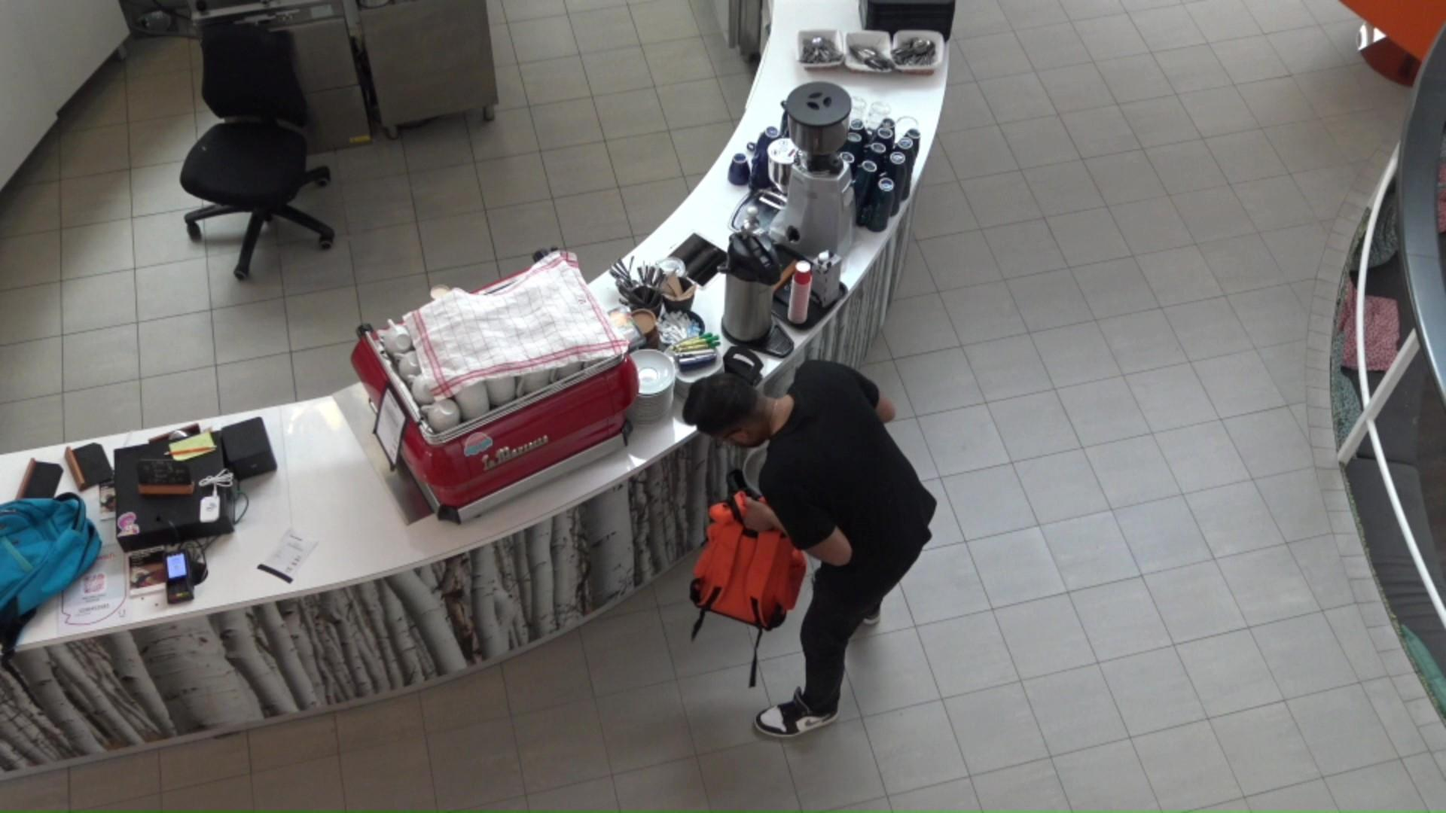shoplifting: (684, 362, 932, 738)
